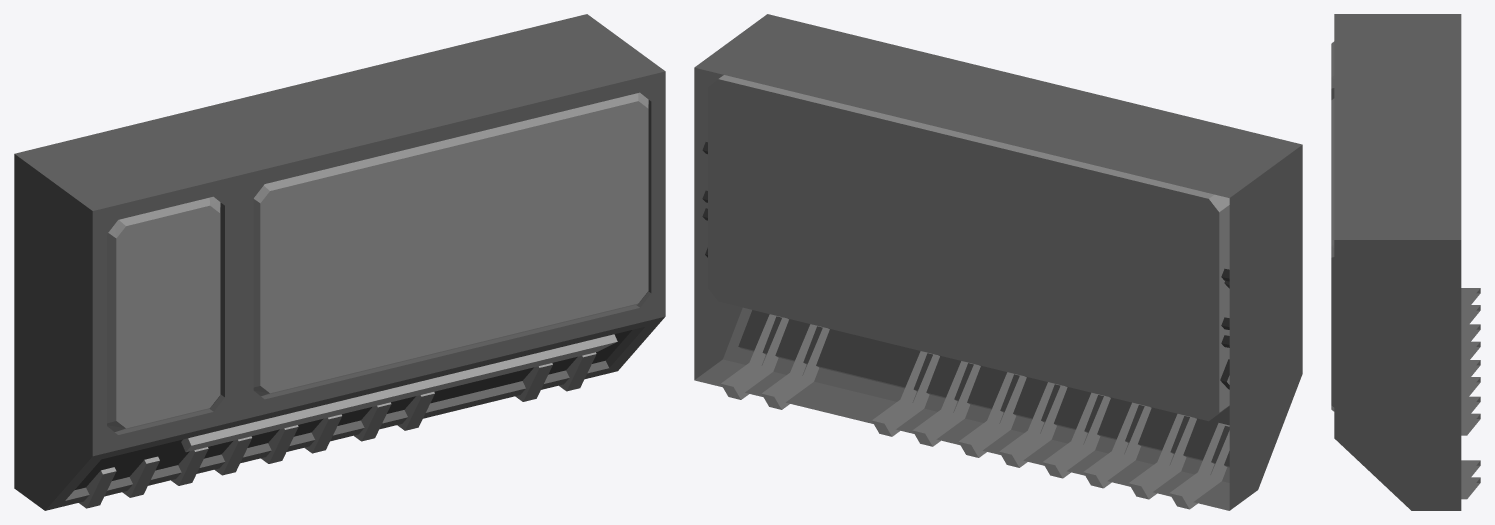
The model's file is wall_panel_A.FBX.
3 renders of one model, left to right at view 1: azimuth 30°, elevation 25°; view 2: azimuth 150°, elevation 25°; view 3: azimuth 270°, elevation 25°, orthographic. The views are drawn at different scales.
Visible parts, largest first — view 1: wall_panel_A, wall_panel_A_pane2, wall_panel_A_pane1, wall_panel_A_glow; view 2: wall_panel_A; view 3: wall_panel_A, wall_panel_A_pane2, wall_panel_A_pane1.
Boxes of the visible parts, box(x1,y1,x2,y2) form: wall_panel_A: box(14, 14, 665, 510); wall_panel_A_pane2: box(253, 92, 648, 396); wall_panel_A_pane1: box(107, 196, 220, 431); wall_panel_A_glow: box(181, 334, 617, 452); wall_panel_A: box(694, 14, 1302, 510); wall_panel_A: box(1334, 14, 1480, 510); wall_panel_A_pane2: box(1331, 98, 1334, 411); wall_panel_A_pane1: box(1331, 41, 1334, 99).
Bounding box in the file's own units: 51.29 × 29.09 × 14.31.
